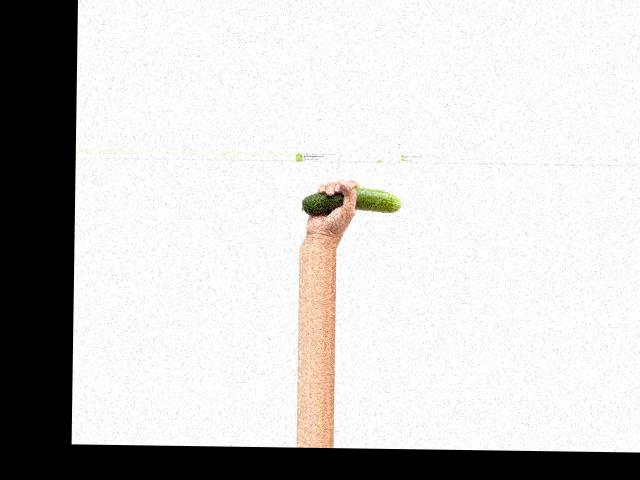cucumber: (302, 186, 401, 215)
